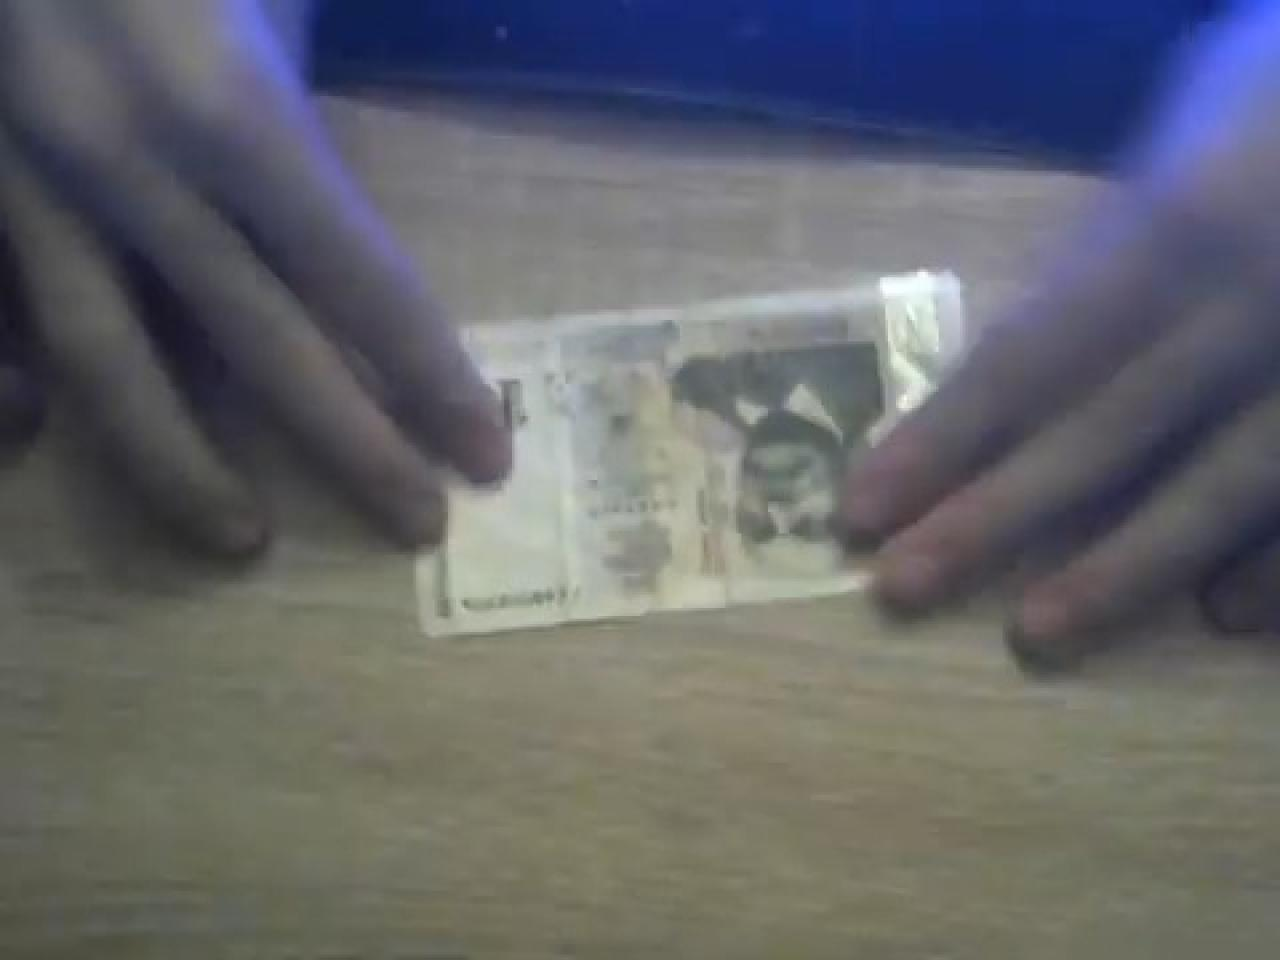10leva: (413, 277, 930, 640)
